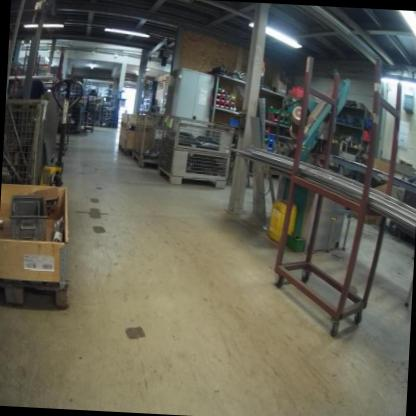pallet: (0, 280, 72, 310), (120, 121, 153, 134), (116, 143, 137, 157)
pallet_truck: (46, 79, 80, 183)
stillage: (155, 113, 239, 193), (1, 94, 50, 188), (131, 107, 167, 172), (44, 87, 63, 165)
